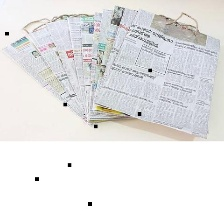news_paper: (0, 4, 222, 141)
